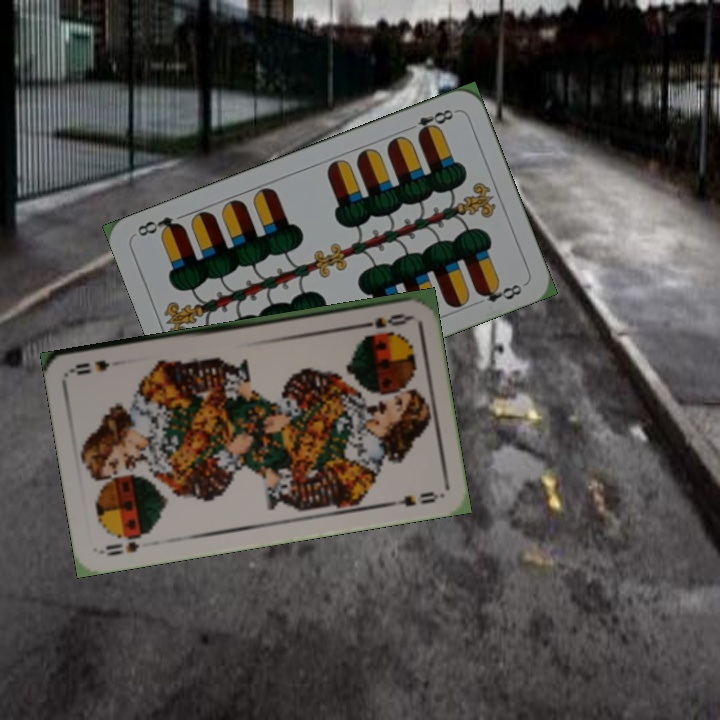E8: (402, 105, 456, 139)
SO: (354, 309, 413, 331), (97, 532, 144, 559)
